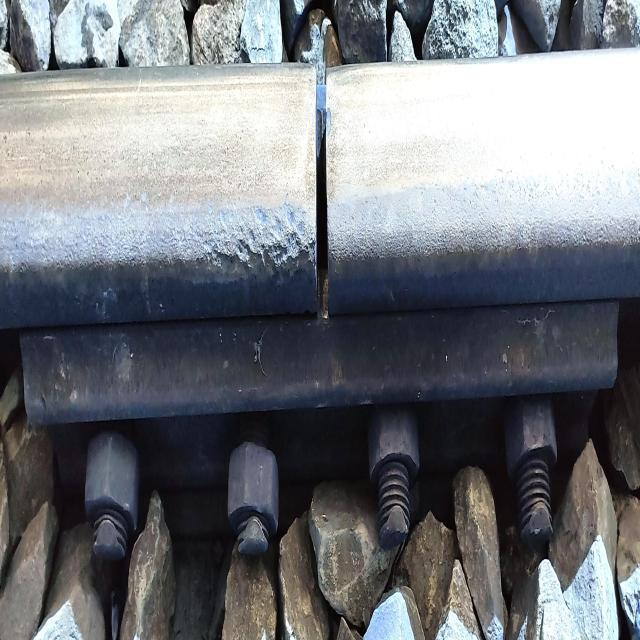Good Joint: (18, 309, 620, 610)
